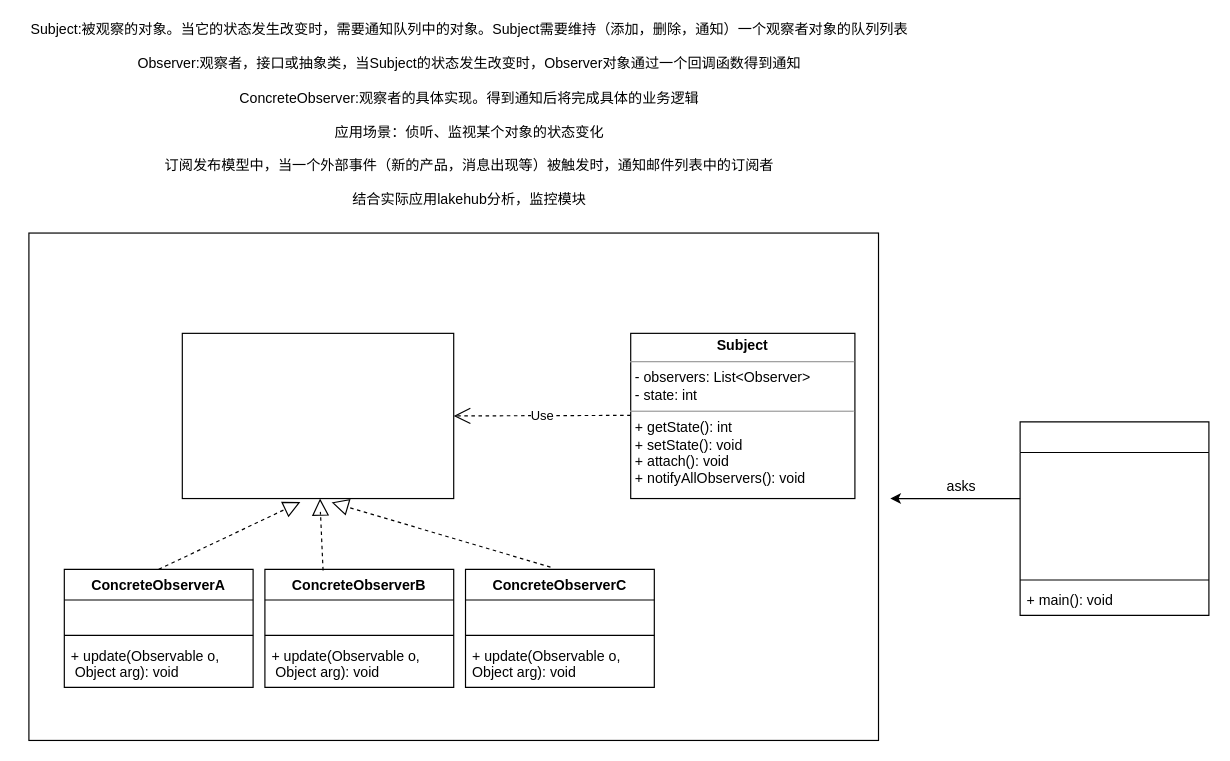
The diagram is 1230 pixels wide and 761 high, and some of its shapes have lost their labels. The shapes that lost their labels are listed below. From the top down, each one's box as (x1, y1, x2, y2) in pixels, then its label:
(181, 332, 454, 499): <<Interface>> Observer + update(Observable o, Object arg): void
(1019, 421, 1209, 615): Client
